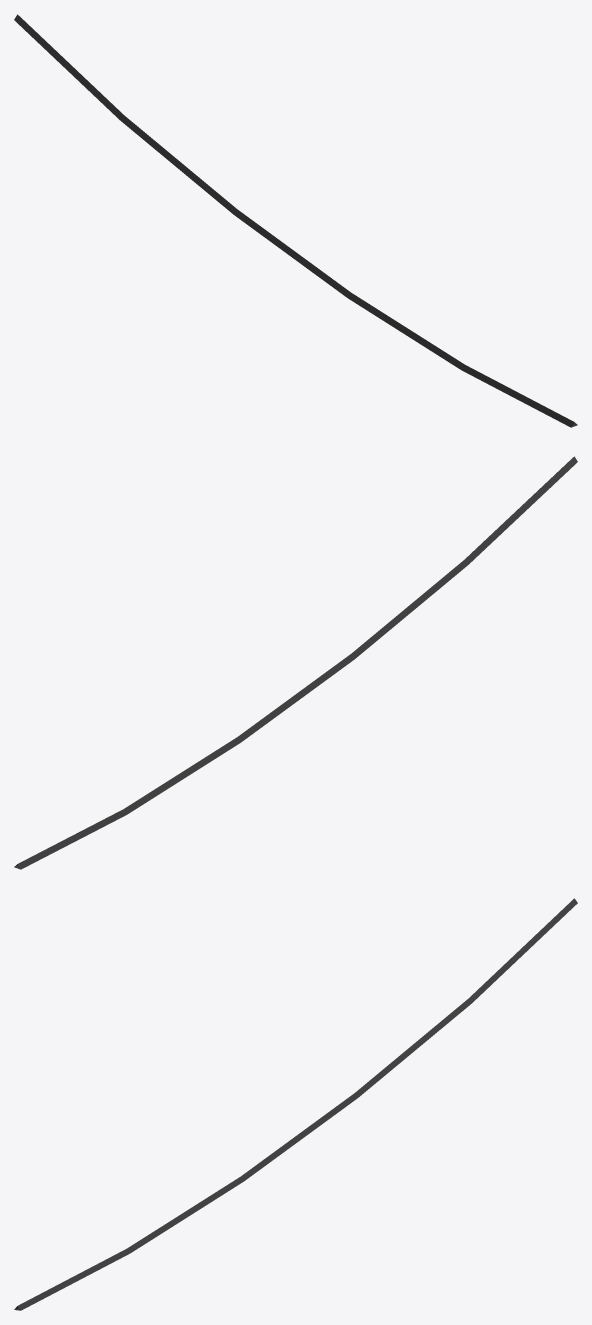
The model's file is pylon_line1.fbx.
The picture shows the model from 3 angles, top to bottom: view 1: azimuth 30°, elevation 25°; view 2: azimuth 150°, elevation 25°; view 3: azimuth 330°, elevation 25°; orthographic projection.
Visible parts, largest first — view 1: pylon_line1; view 2: pylon_line1; view 3: pylon_line1.
Part boxes in pixels (x1,y1,x2,y2): pylon_line1: [14, 14, 577, 427]; pylon_line1: [14, 456, 577, 869]; pylon_line1: [14, 898, 577, 1310].
Bounding box in the file's own units: 10.86 × 57.81 × 1501.
